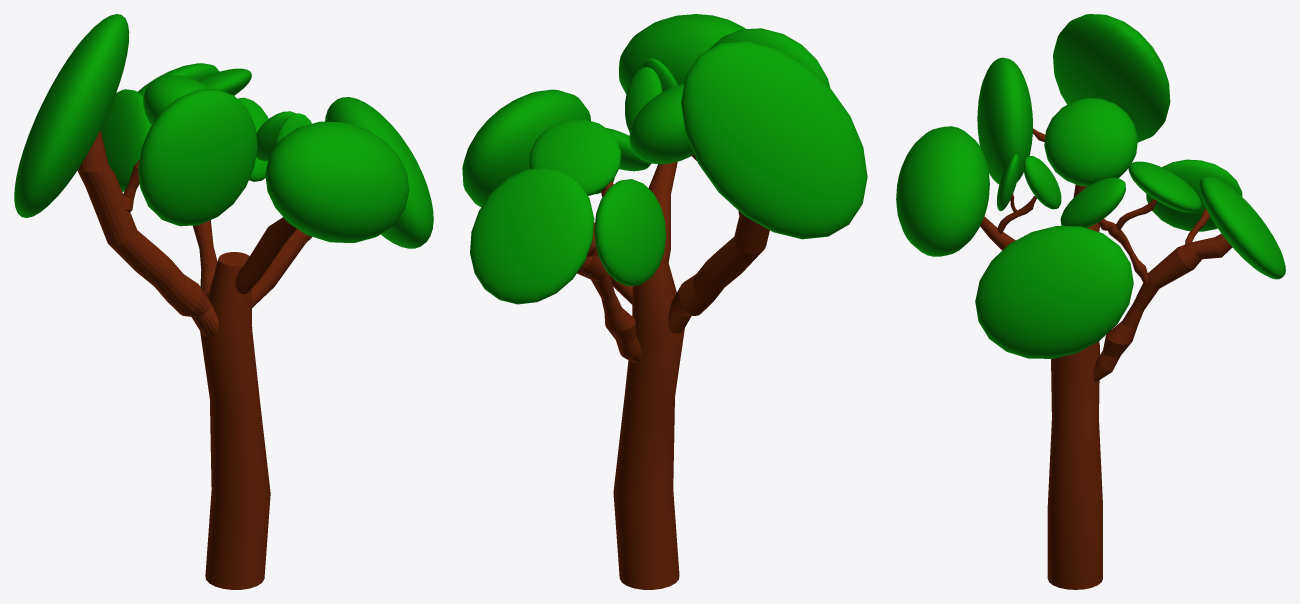
The model's file is tree3.fbx.
3 renders of one model, left to right at view 1: azimuth 30°, elevation 25°; view 2: azimuth 150°, elevation 25°; view 3: azimuth 270°, elevation 25°, orthographic. The views are drawn at different scales.
Visible parts, largest first — view 1: wood, flower9, flower, flower2, wood2, flower10, flower5, wood4, flower1, wood1, wood3, flower3 (+3 smaller); view 2: flower2, wood, flower4, flower10, flower5, flower9, flower3, wood2, flower1, wood3, flower, flower7 (+2 smaller); view 3: flower10, wood, flower9, flower2, flower1, flower, flower4, wood3, flower5, flower3, flower6, flower7 (+2 smaller).
Part boxes in pixels (x1,y1,x2,y2): wood: (200,252,270,589); flower9: (265,121,409,242); flower: (138,89,257,226); flower2: (14,14,129,217); wood2: (77,130,218,337); flower10: (325,97,433,248); flower5: (100,89,151,191); wood4: (235,217,296,294); flower1: (143,75,210,125); wood1: (251,229,312,307); wood3: (193,220,217,297); flower3: (197,68,251,95); flower2: (681,40,867,239); wood: (613,252,684,589); flower4: (470,167,594,304); flower10: (462,89,590,207); flower5: (594,179,666,286); flower9: (619,14,745,93); flower3: (529,119,621,195); wood2: (668,212,769,333); flower1: (629,84,694,164); wood3: (577,248,641,363); flower: (709,28,830,87); flower7: (625,67,662,132); flower10: (975,226,1133,358); wood: (1047,341,1102,589); flower9: (896,126,989,256); flower2: (1053,14,1170,142); flower1: (1044,98,1137,186); flower: (977,57,1032,183); flower4: (1199,176,1285,279); wood3: (1093,233,1232,382); flower5: (1146,159,1242,231); flower3: (1128,161,1201,212); flower6: (1060,177,1125,227); flower7: (1023,156,1061,209).
Bounding box in the file's own units: 1.54 × 2.16 × 1.49.
